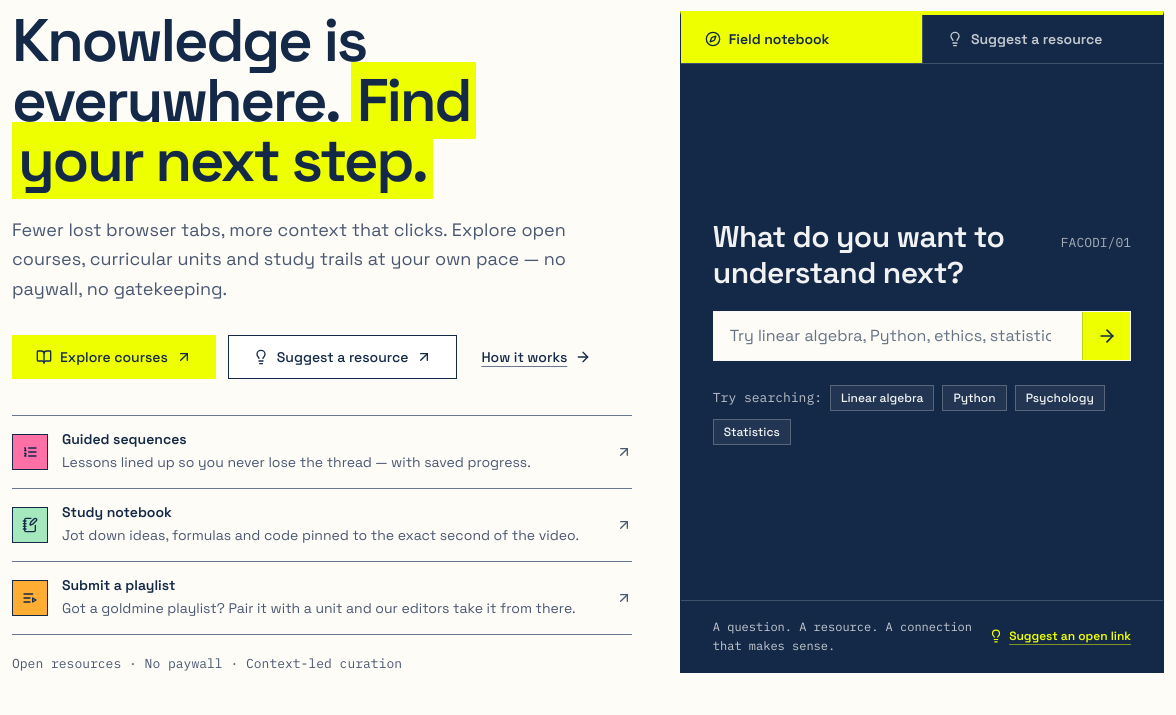
Test: HomeHero › routes library search submissions and quick-prompt chips to /resources
Click the button "Linear algebra": (882, 398) [830,385,934,411]
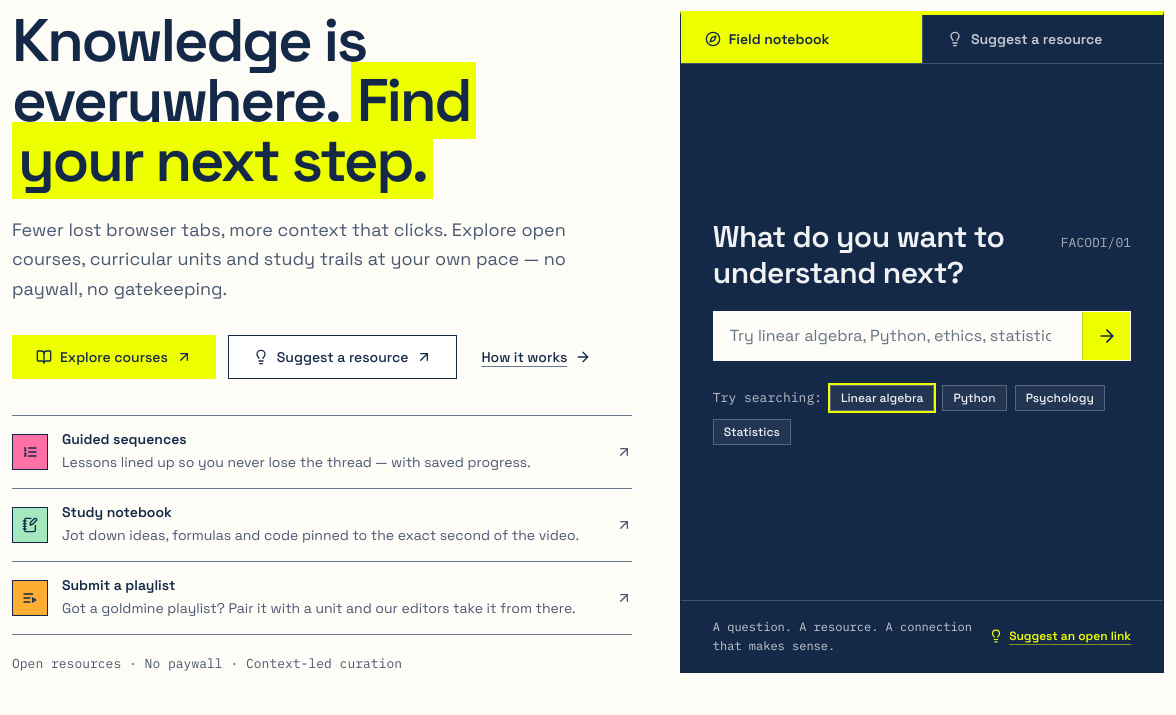
In the search field labelled "What do you want to understand next?": (898, 336) [714,312,1082,360], type "  logic  "
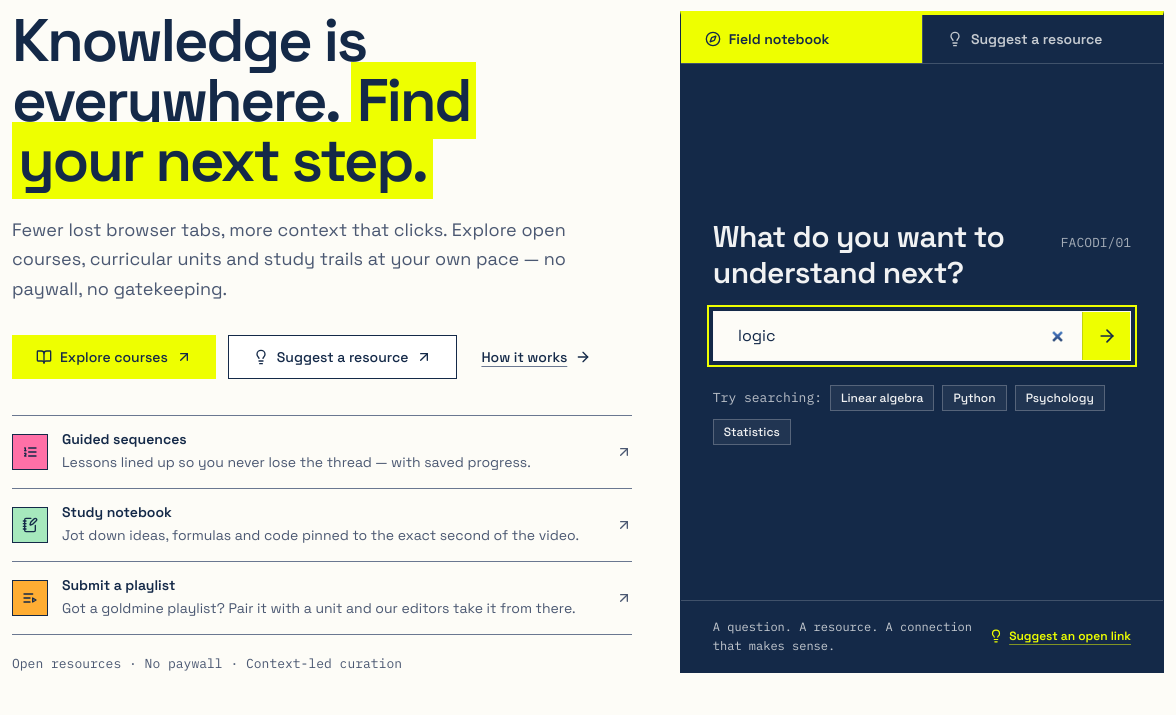
Click the button named "Search the catalogue": (1106, 336) [1082,312,1130,360]
(page scrolled)
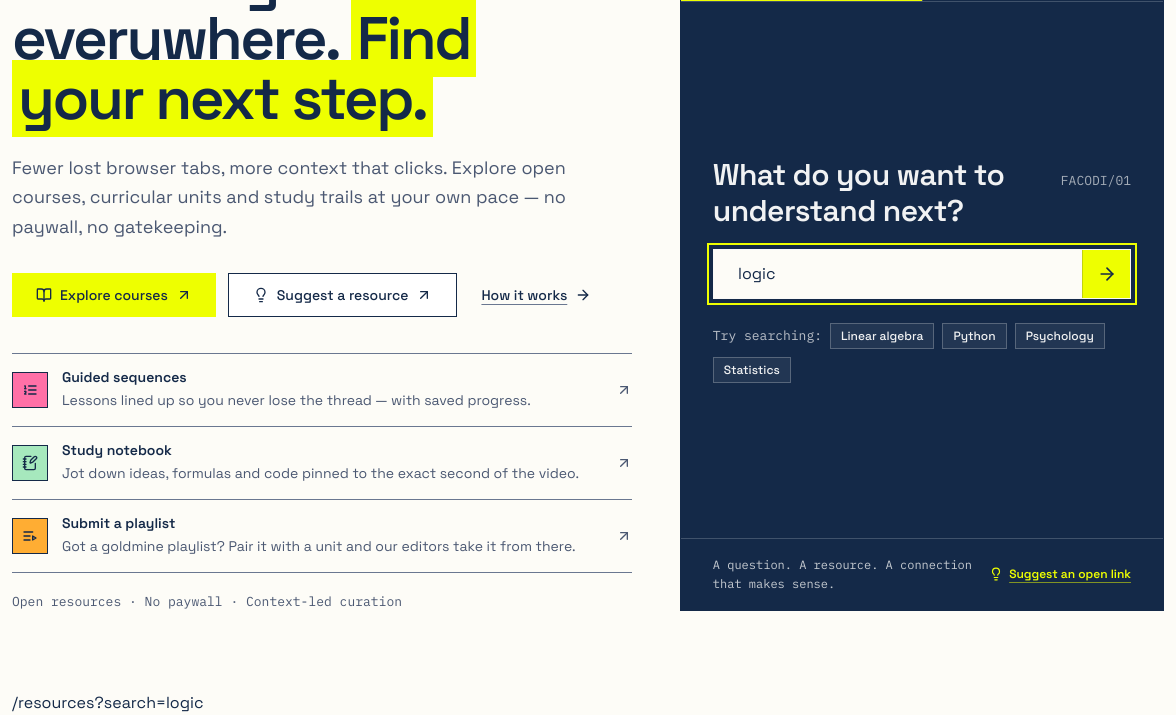
Expected: the text with test id "where" reads "/resources?search=logic", [12,692,204,713]
